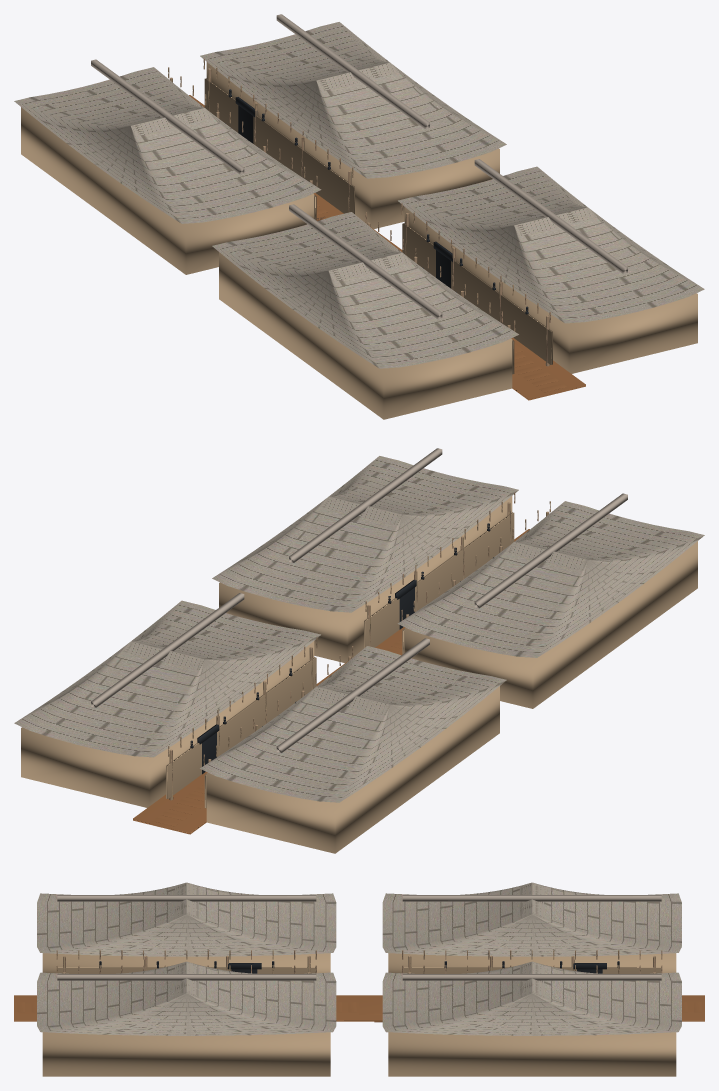
3 renders of one model, top to bottom at view 1: azimuth 30°, elevation 25°; view 2: azimuth 150°, elevation 25°; view 3: azimuth 270°, elevation 25°, orthographic. The views are drawn at different scales.
Parts seen in each view (by area): view 1: pimatgol_tavern_giwa_roofs, pimatgol_tavern_facades, pimatgol_alley_roadway; view 2: pimatgol_tavern_giwa_roofs, pimatgol_tavern_facades, pimatgol_alley_roadway; view 3: pimatgol_tavern_giwa_roofs, pimatgol_tavern_facades, pimatgol_alley_roadway, pimatgol_archaeological_relics.
Boxes of the visible parts, x1,y1,x2,y2 form: pimatgol_tavern_giwa_roofs: (14, 14, 704, 368); pimatgol_tavern_facades: (21, 62, 697, 419); pimatgol_alley_roadway: (189, 95, 585, 400); pimatgol_tavern_giwa_roofs: (14, 448, 704, 802); pimatgol_tavern_facades: (21, 496, 697, 853); pimatgol_alley_roadway: (133, 529, 529, 834); pimatgol_tavern_giwa_roofs: (37, 882, 681, 1035); pimatgol_tavern_facades: (42, 953, 676, 1076); pimatgol_alley_roadway: (14, 995, 704, 1021); pimatgol_archaeological_relics: (359, 1000, 382, 1022).
Bounding box in the file's own units: 22.8 × 6.13 × 48.
5 materials, 5 textured.
